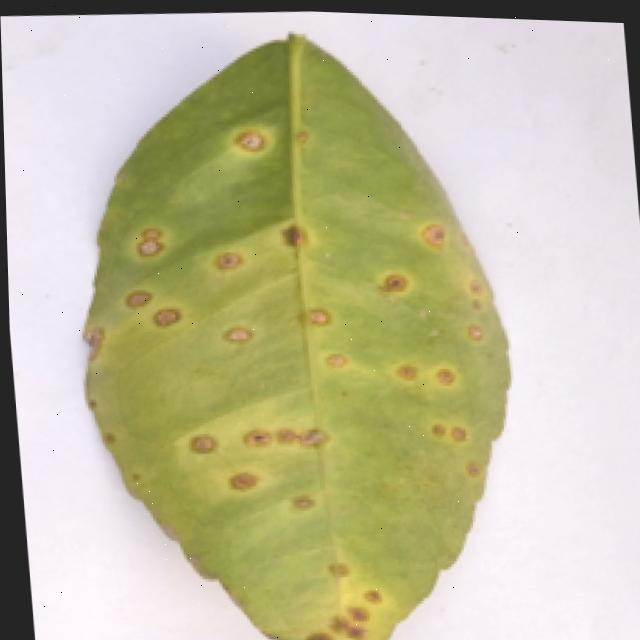canker: (83, 37, 501, 640), (354, 186, 509, 353), (171, 411, 379, 534), (382, 338, 518, 497), (300, 542, 400, 640), (114, 282, 209, 354), (301, 306, 370, 379), (109, 214, 189, 273), (219, 113, 289, 171), (212, 315, 267, 362), (276, 215, 323, 259), (213, 239, 250, 284)
